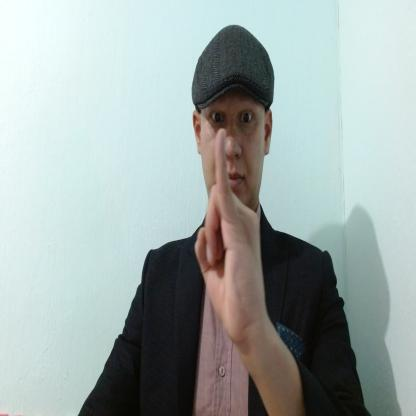I: (195, 128, 266, 341)
